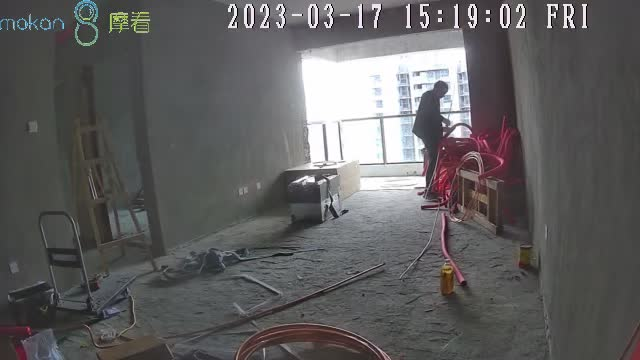people: (414, 81, 450, 200)
window: (303, 49, 467, 165)
